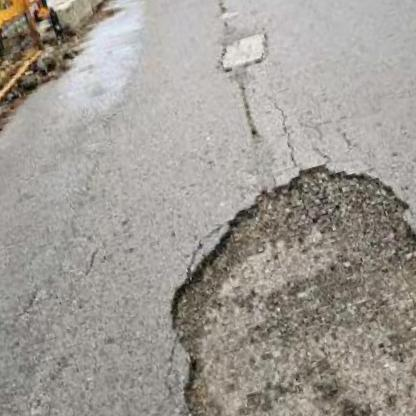pothole: (121, 127, 416, 416)
